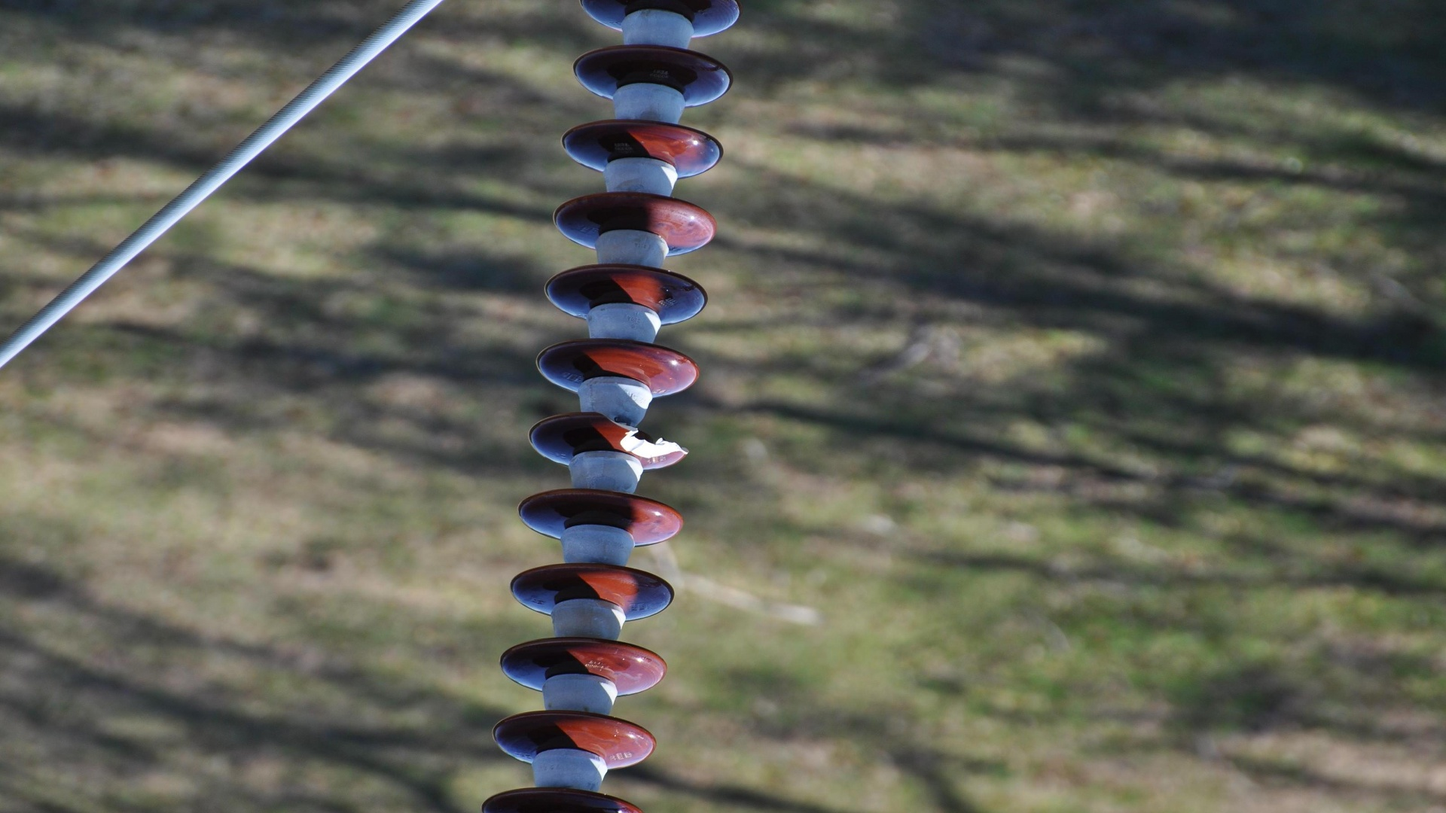insulator: (470, 1, 746, 813)
insulator_breakage: (590, 405, 692, 459)
